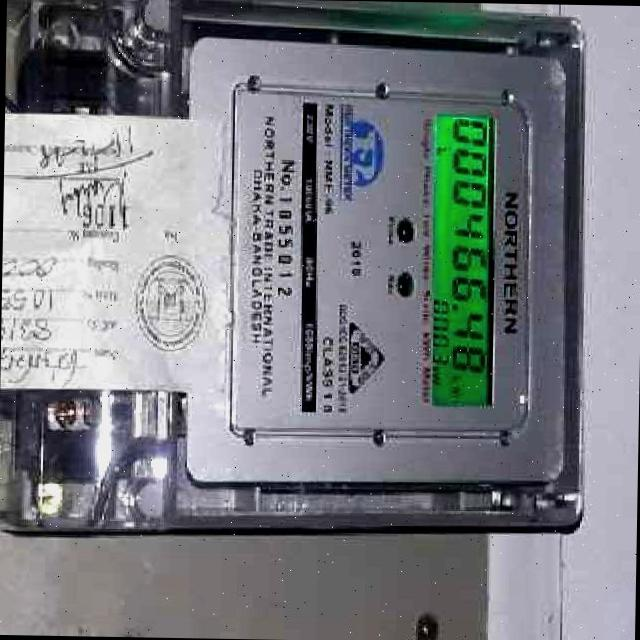LCD: (413, 107, 502, 422)
